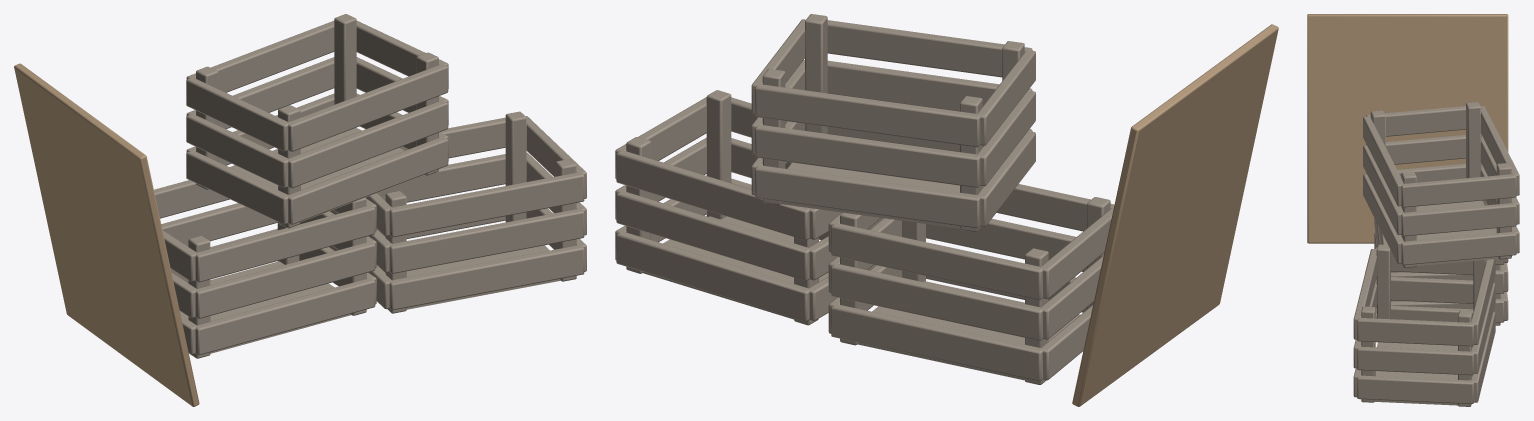
The model's file is crates.glb.
3 views of the same model, side by side, from view 1: azimuth 30°, elevation 25°; view 2: azimuth 150°, elevation 25°; view 3: azimuth 270°, elevation 25° (orthographic). The views are drawn at different scales.
Parts seen in each view (by area): view 1: crates; view 2: crates; view 3: crates.
Boxes of the visible parts, box(x1,y1,x2,y2) form: crates: box(14, 14, 586, 406); crates: box(615, 14, 1278, 406); crates: box(1307, 14, 1519, 406).
Size of the model in its own units: 1.34 by 0.6872 by 0.6341.
